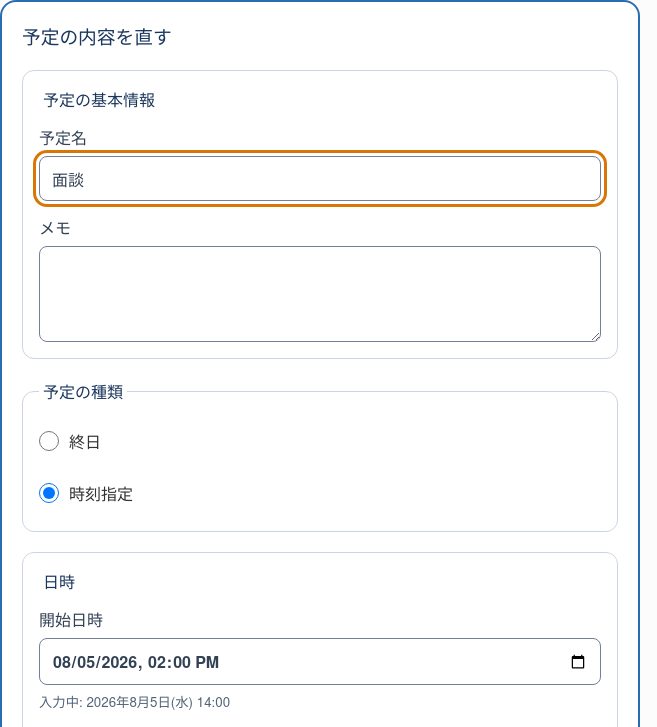
it: Calendar Conversation Capture DOM integration › shows valid timed edit values in Japanese and omits misleading help for empty values
This screenshot has width=657, height=727.
Check: the text "入力中: 2026年8月5日(水) 14:00" is shown, box [39,692,230,711]
Clear the field labelled "開始日時" at (320, 662), box [39,638,601,685]
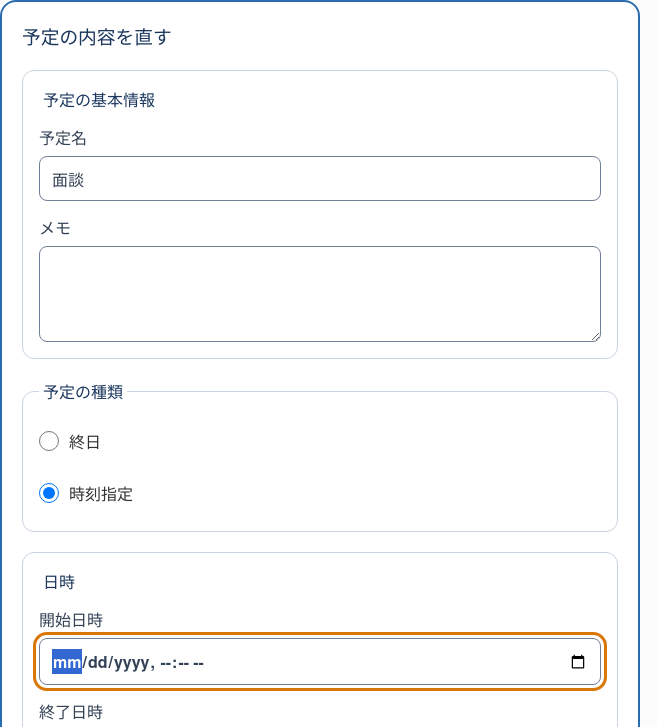
Check: the text "入力中: 2026年8月5日(水) 14:00" is gone
